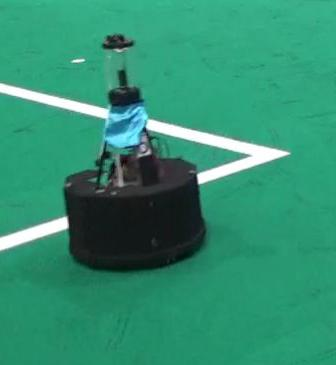robot: (58, 31, 211, 274)
